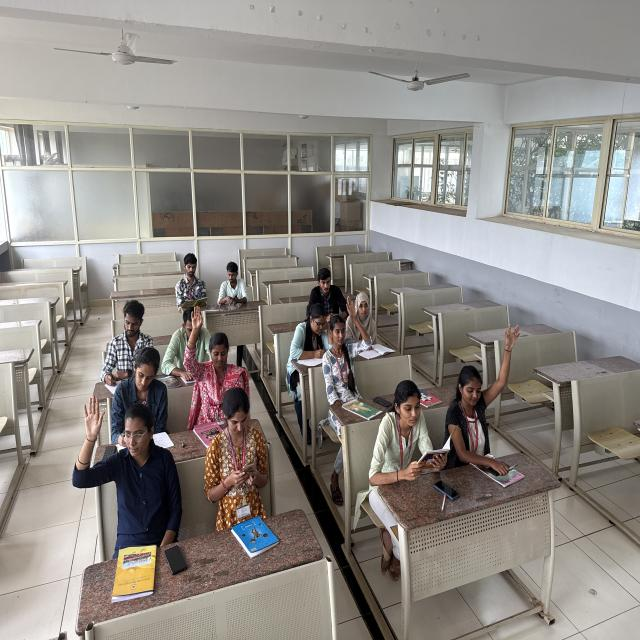Hand Rising: (64, 398, 182, 530), (450, 329, 523, 448), (188, 306, 244, 392), (326, 303, 371, 394)
Reading: (377, 382, 453, 480), (157, 314, 211, 384), (169, 255, 215, 308)
Using Phone: (204, 394, 293, 508), (218, 258, 256, 307)
Writing: (108, 352, 184, 441), (94, 304, 154, 382), (286, 310, 332, 363)
